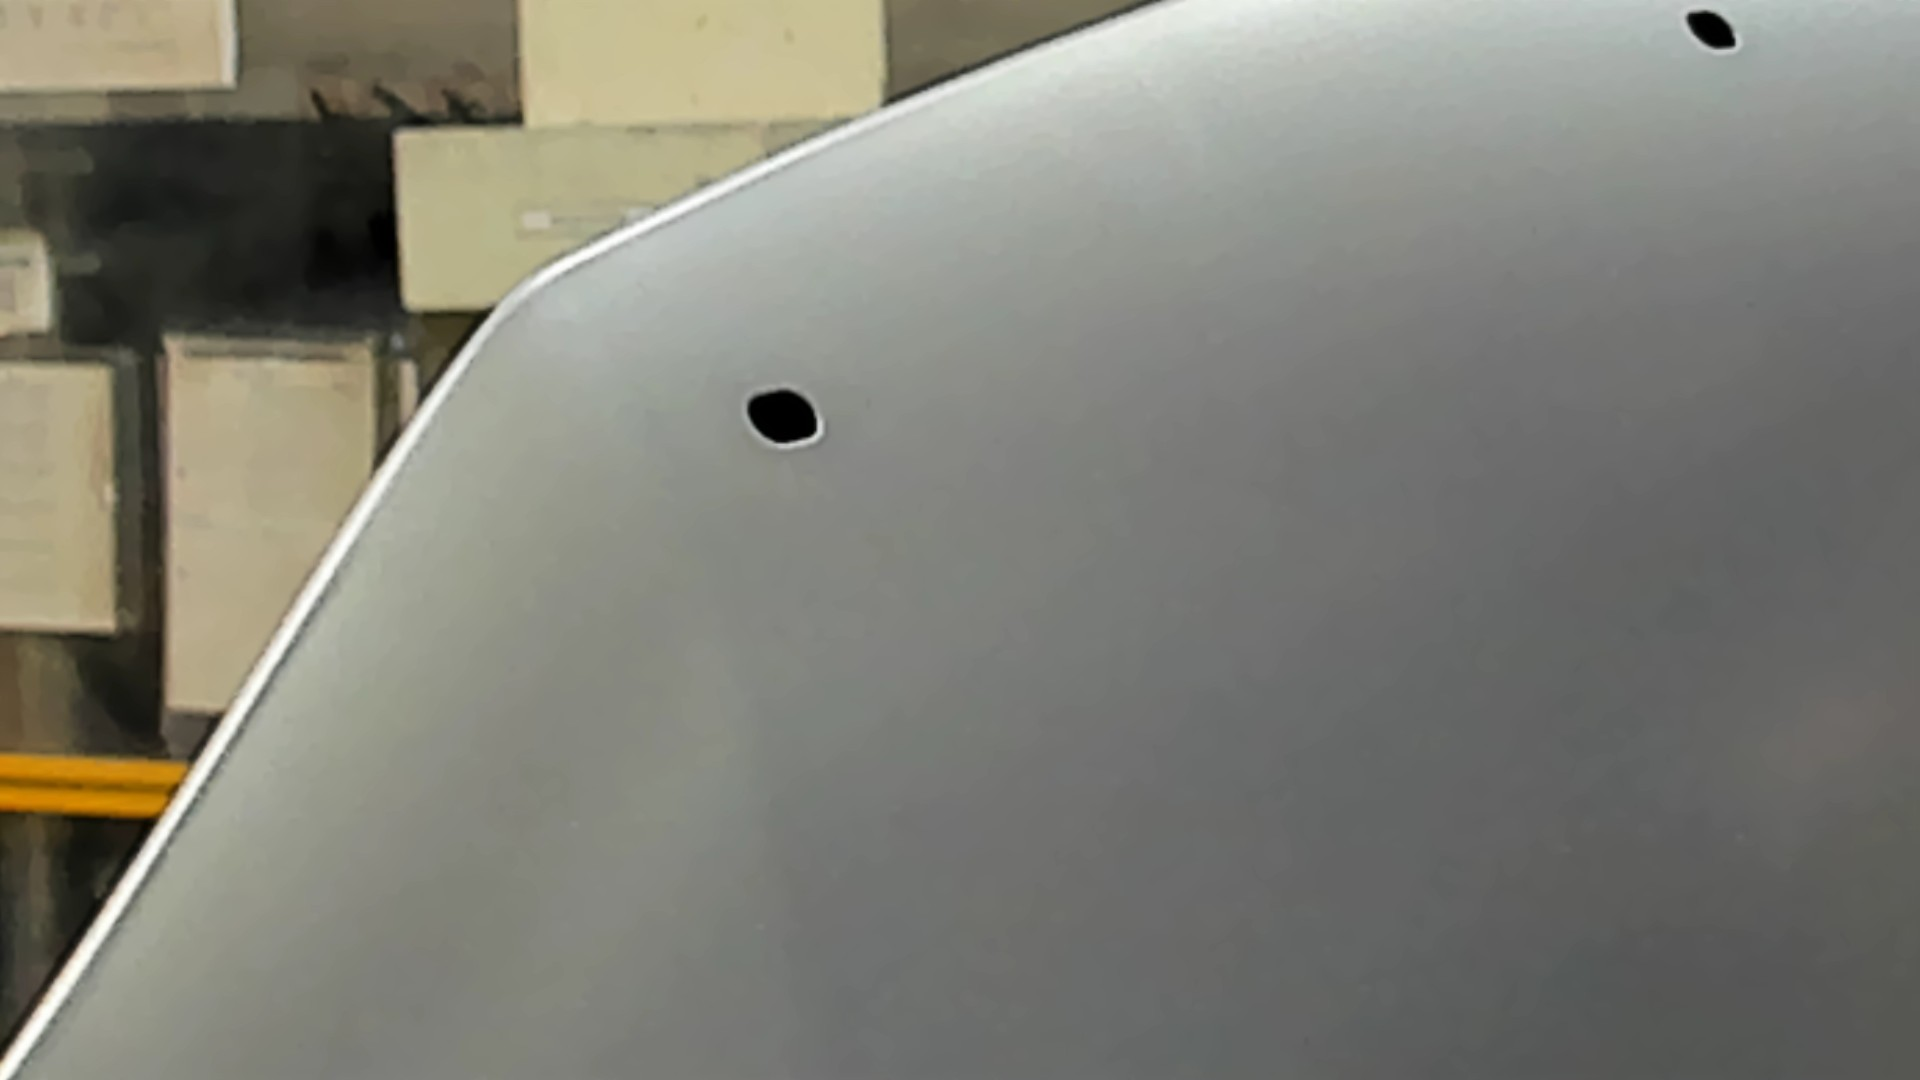amorfo: (735, 382, 832, 456), (1680, 1, 1747, 65)
